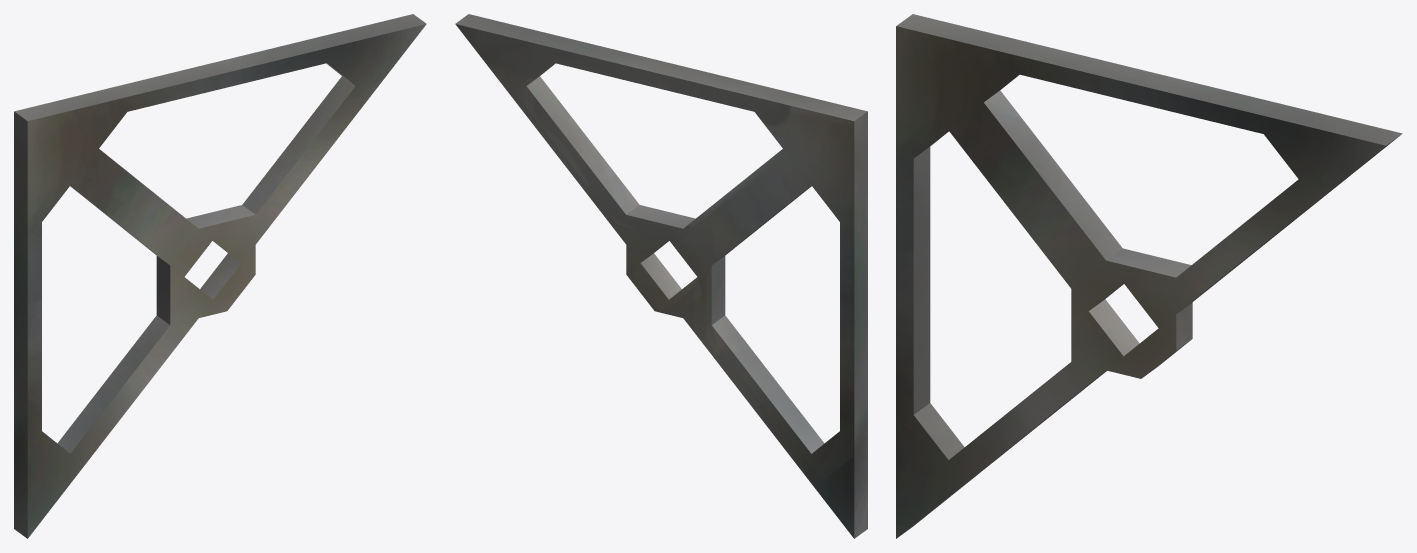
File: support.glb
3 views of the same model, side by side, from view 1: azimuth 30°, elevation 25°; view 2: azimuth 150°, elevation 25°; view 3: azimuth 330°, elevation 25° (orthographic). The views are drawn at different scales.
Visible parts, largest first — view 1: Cube; view 2: Cube; view 3: Cube.
Boxes of the visible parts, bbox=[...] form: Cube: bbox=[14, 14, 426, 538]; Cube: bbox=[455, 14, 867, 538]; Cube: bbox=[896, 14, 1402, 538].
Size of the model in its own units: 1.75 by 1.75 by 0.1029.
Materials: 1 (1 with a texture image).
